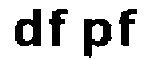d: (10, 5, 43, 53)
f: (49, 6, 73, 55), (117, 6, 142, 50)
p: (78, 16, 112, 60)
